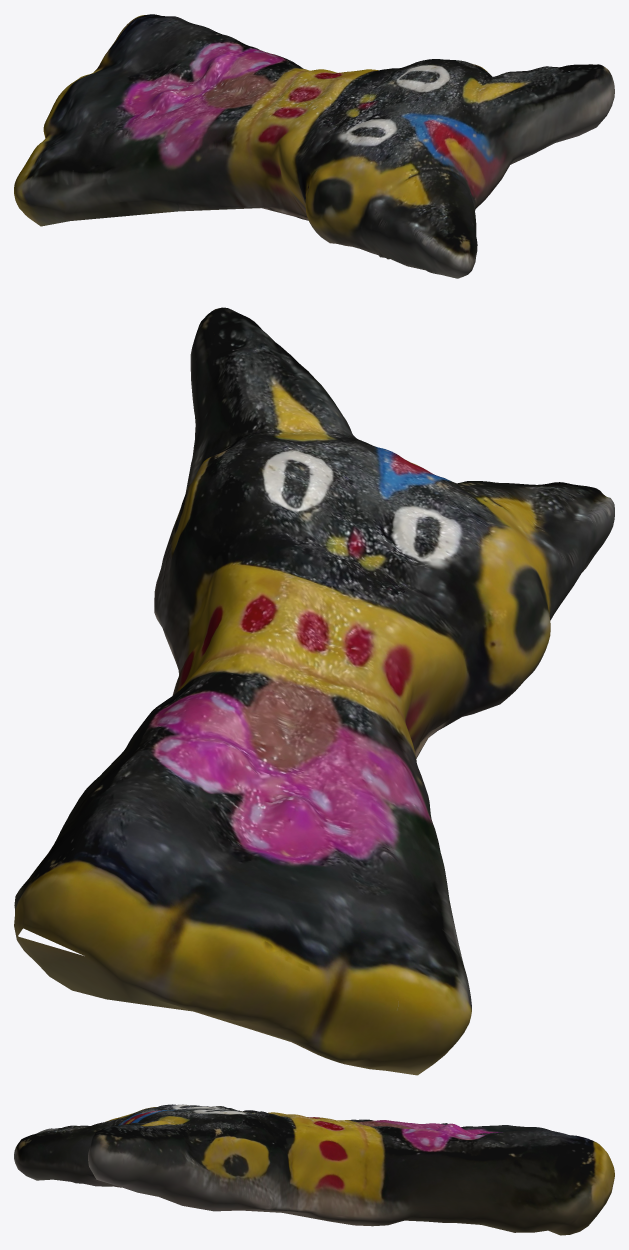
3 renders of one model, top to bottom at view 1: azimuth 30°, elevation 25°; view 2: azimuth 150°, elevation 25°; view 3: azimuth 270°, elevation 25°, orthographic. The views are drawn at different scales.
Bounding box in the file's own units: 0.54 × 0.319 × 0.8172.
1 material, 1 textured.
